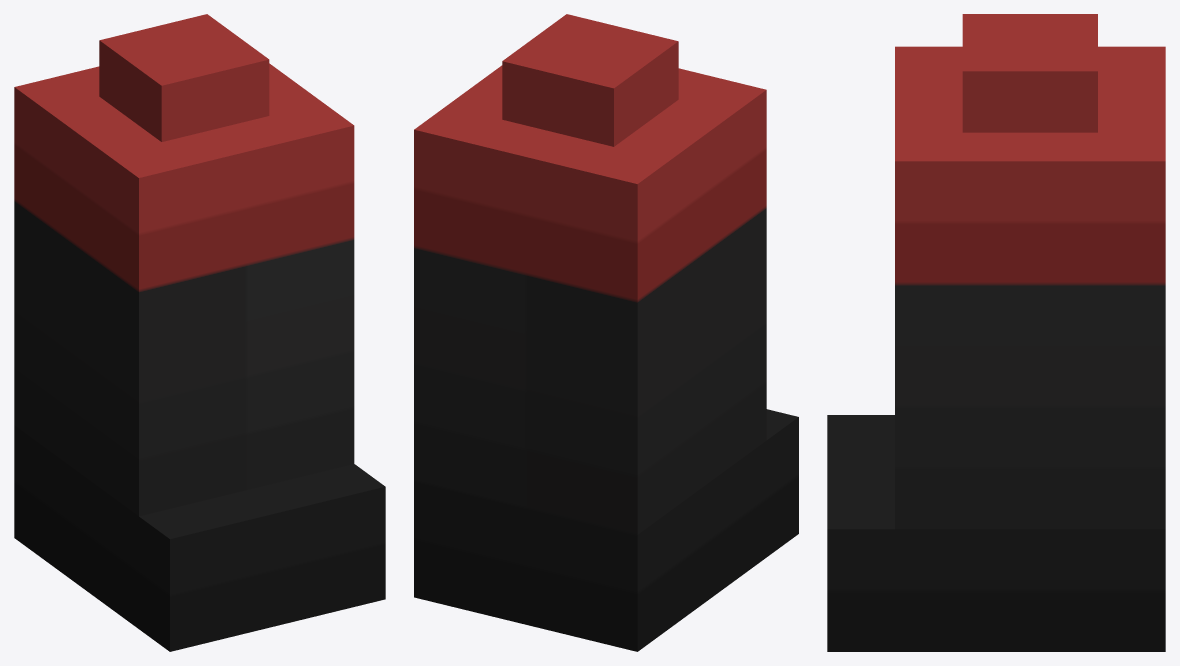
Rendered from Knee054.fbx.
3 renders of one model, left to right at view 1: azimuth 30°, elevation 25°; view 2: azimuth 150°, elevation 25°; view 3: azimuth 270°, elevation 25°, orthographic. The views are drawn at different scales.
Parts seen in each view (by area): view 1: Knee054; view 2: Knee054; view 3: Knee054.
Boxes of the visible parts, <box> form: Knee054: <box>14,14,385,651</box>; Knee054: <box>414,14,798,651</box>; Knee054: <box>827,14,1165,651</box>.
Size of the model in its own units: 4 by 9 by 5.
